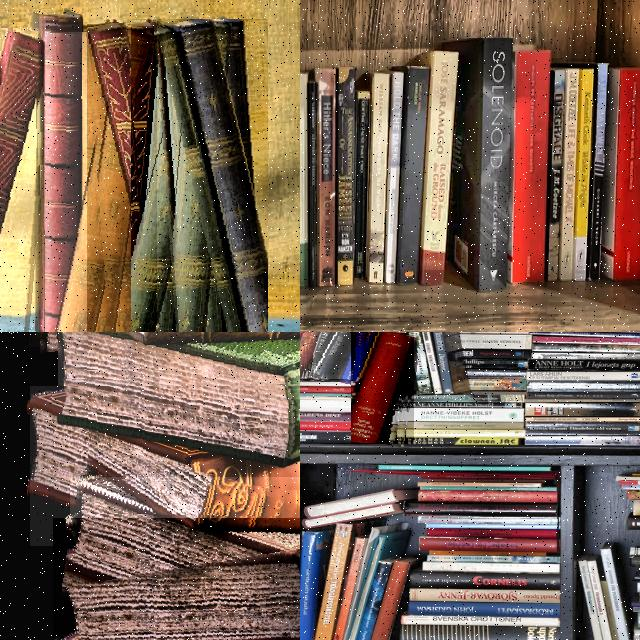Books: (31, 394, 300, 546), (70, 477, 300, 640), (158, 20, 268, 332), (88, 24, 190, 332), (59, 332, 300, 460), (56, 32, 155, 332), (132, 26, 229, 332), (442, 38, 513, 290), (39, 15, 82, 332), (0, 29, 50, 243), (417, 51, 458, 284), (510, 51, 551, 283), (601, 68, 640, 280), (396, 66, 430, 284), (352, 332, 414, 444), (366, 73, 390, 283), (315, 70, 336, 286), (587, 63, 608, 279), (573, 68, 594, 280), (560, 68, 580, 279), (384, 71, 403, 282), (336, 68, 354, 286), (546, 70, 564, 280), (354, 91, 370, 277), (409, 570, 559, 589), (401, 624, 559, 640), (407, 602, 559, 617), (418, 537, 559, 553), (409, 588, 559, 603), (314, 332, 360, 379), (403, 502, 557, 515), (308, 81, 317, 287), (405, 408, 524, 423), (524, 402, 640, 417), (402, 616, 559, 627), (300, 73, 308, 287), (406, 332, 433, 394), (422, 562, 559, 573), (527, 359, 640, 372), (307, 332, 338, 379), (426, 528, 557, 539), (420, 332, 443, 394), (417, 514, 559, 524), (360, 332, 388, 382), (526, 422, 640, 434), (528, 380, 640, 392), (426, 554, 559, 564), (431, 332, 452, 394), (407, 393, 526, 403), (524, 436, 640, 446), (402, 437, 524, 446), (407, 429, 526, 438), (460, 334, 531, 349), (534, 336, 640, 346), (300, 332, 322, 379), (526, 371, 640, 380), (531, 344, 640, 353), (526, 392, 640, 400), (531, 352, 640, 360), (300, 399, 362, 413), (300, 381, 364, 394), (469, 378, 527, 392), (408, 422, 524, 429), (450, 349, 531, 359), (531, 332, 640, 339), (300, 431, 358, 444), (403, 402, 524, 408), (300, 411, 360, 423), (526, 417, 640, 423), (462, 359, 527, 369), (300, 421, 358, 432), (467, 369, 526, 379), (300, 380, 364, 388), (300, 393, 364, 400)
